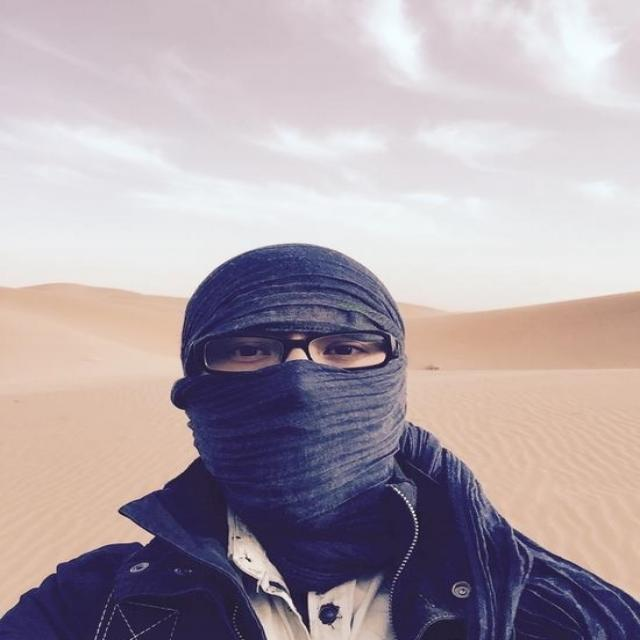mask: (181, 276, 405, 522)
